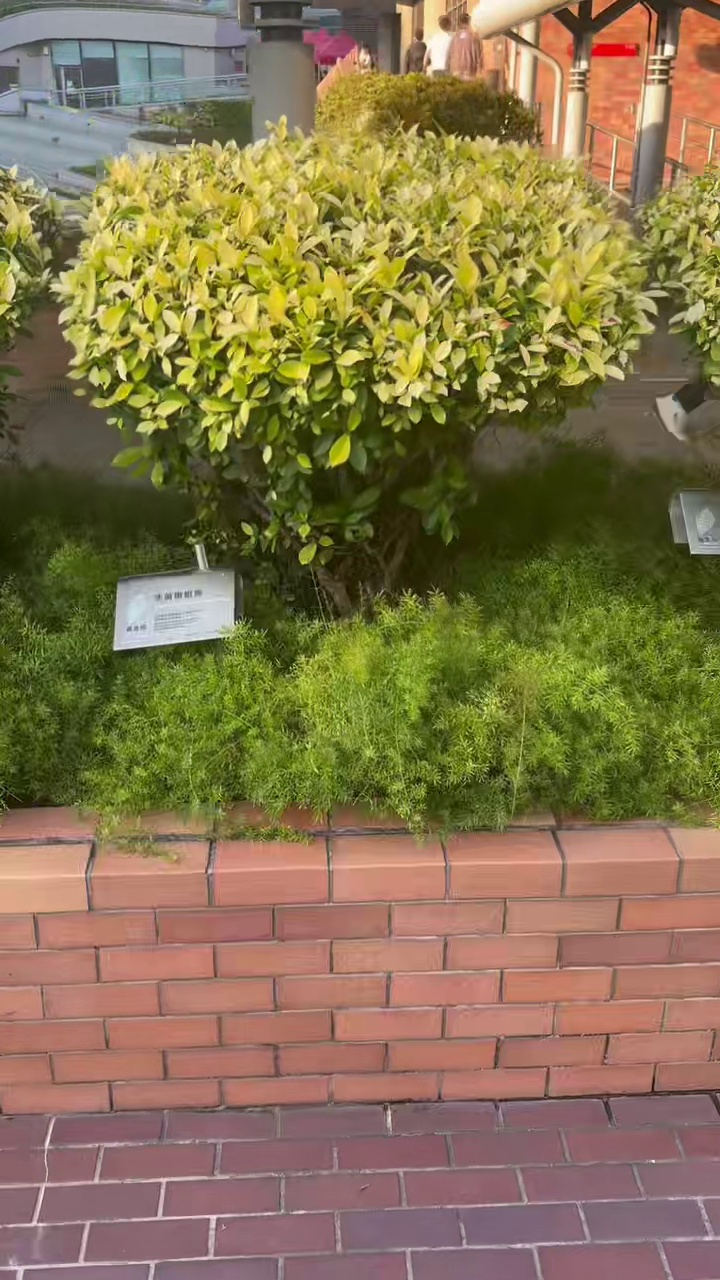Golden-leaves Fig: (57, 125, 653, 602)
